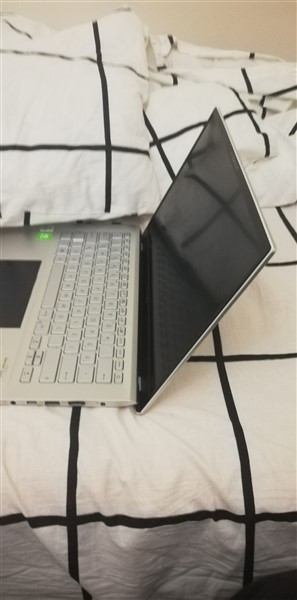laptop: (1, 106, 269, 406)
